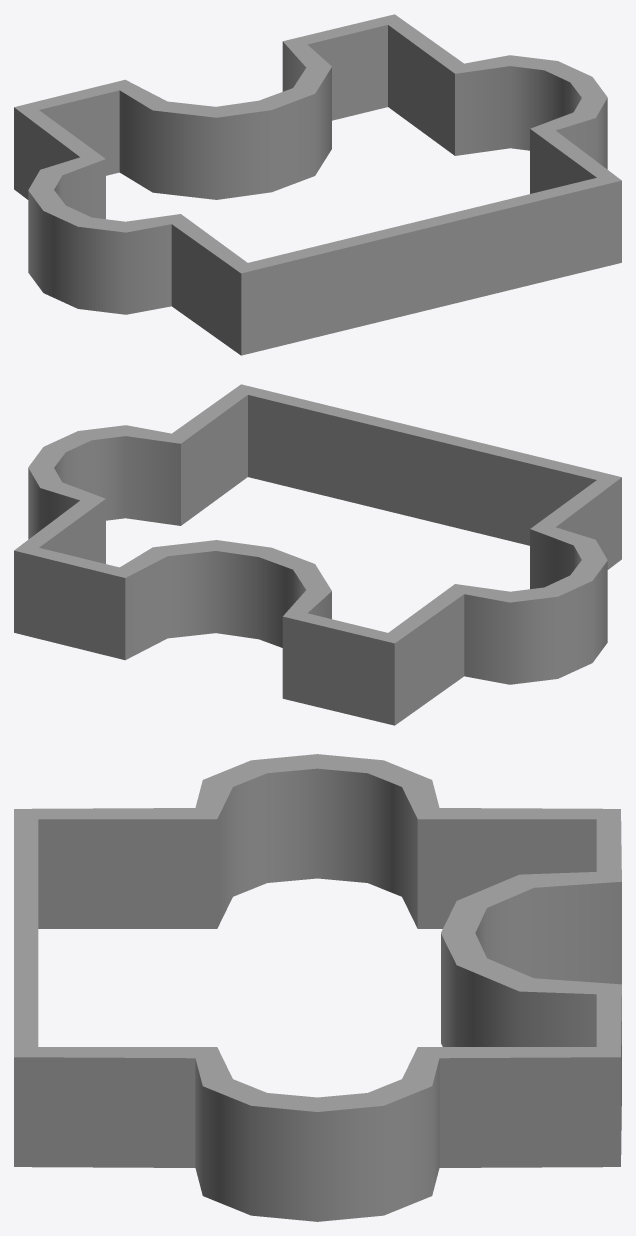
The model's file is BiscuitCutter_PuzzleSide1_01.fbx.
The picture shows the model from 3 angles, top to bottom: view 1: azimuth 30°, elevation 25°; view 2: azimuth 150°, elevation 25°; view 3: azimuth 270°, elevation 25°; orthographic projection. The views are drawn at different scales.
Visible parts, largest first — view 1: BiscuitCutter_PuzzleSide1_01; view 2: BiscuitCutter_PuzzleSide1_01; view 3: BiscuitCutter_PuzzleSide1_01.
Part boxes in pixels (left/top/right/bottom): BiscuitCutter_PuzzleSide1_01: left=14, top=14, right=621, bottom=355; BiscuitCutter_PuzzleSide1_01: left=14, top=384, right=621, bottom=725; BiscuitCutter_PuzzleSide1_01: left=14, top=754, right=621, bottom=1221.
Size of the model in its own units: 0.0892 by 0.0128 by 0.064.
